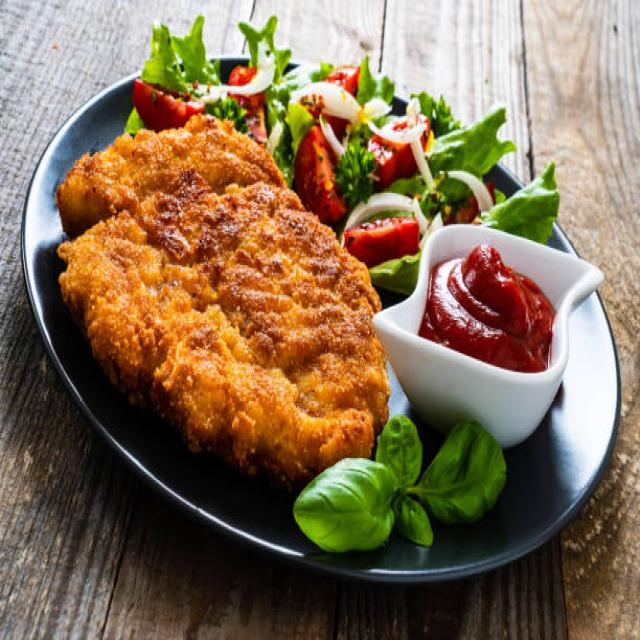Frango: (53, 102, 394, 478)
